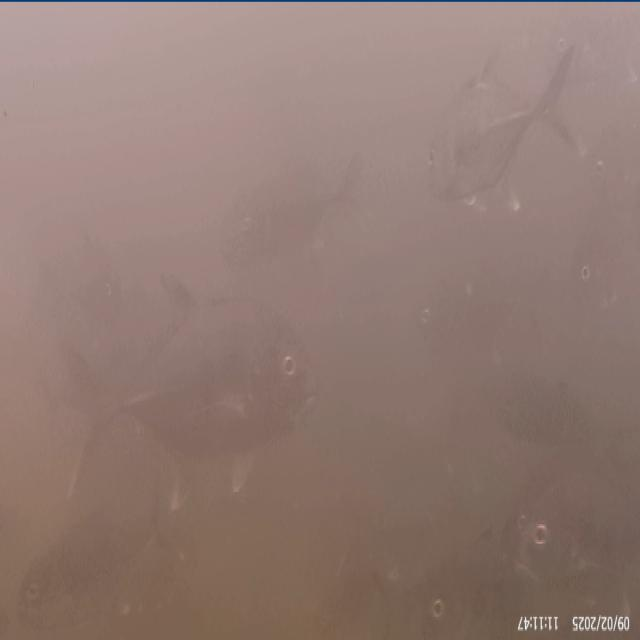ikan: (16, 287, 318, 631), (426, 39, 580, 210)
